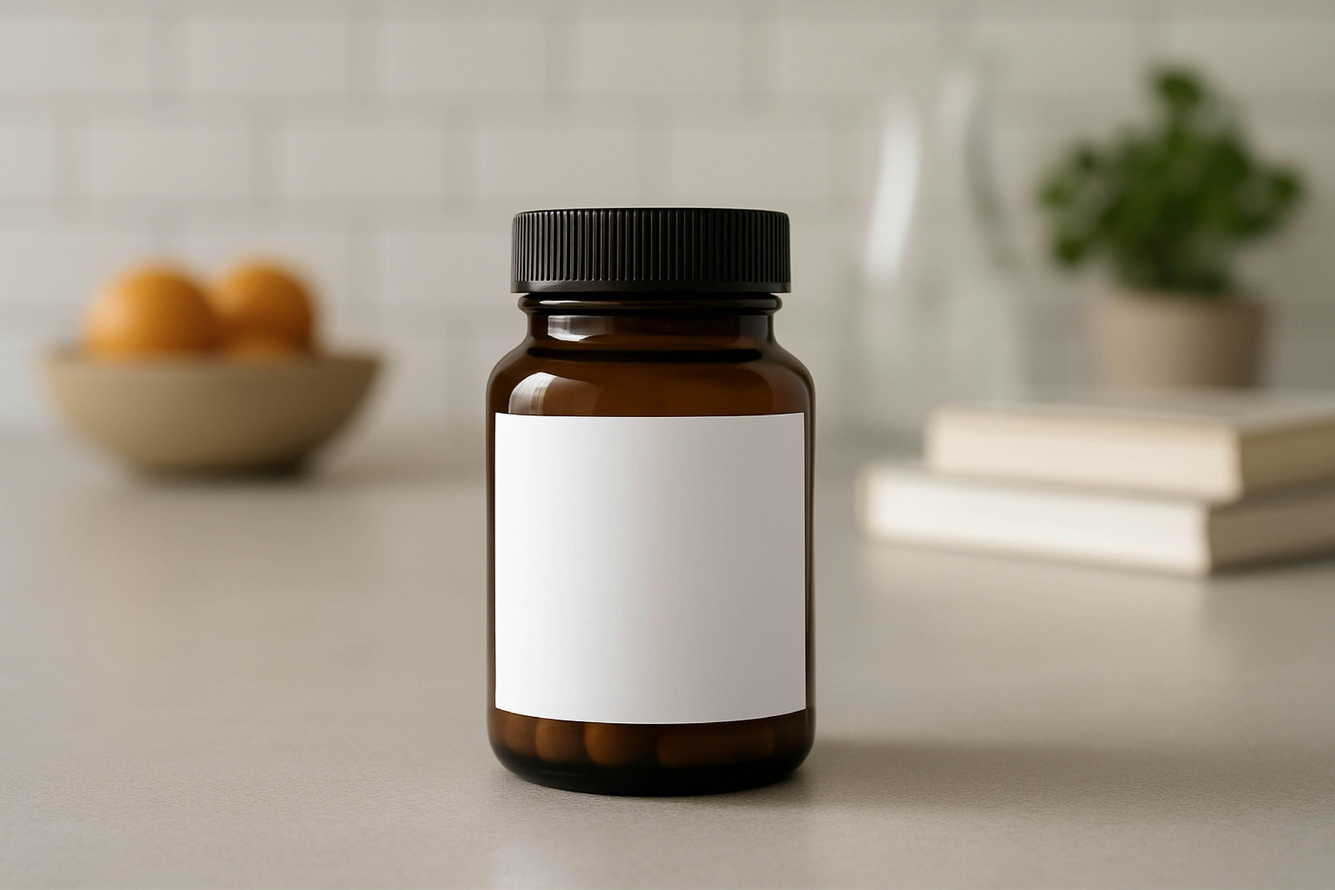Bottle-Detection: (442, 167, 876, 832)
